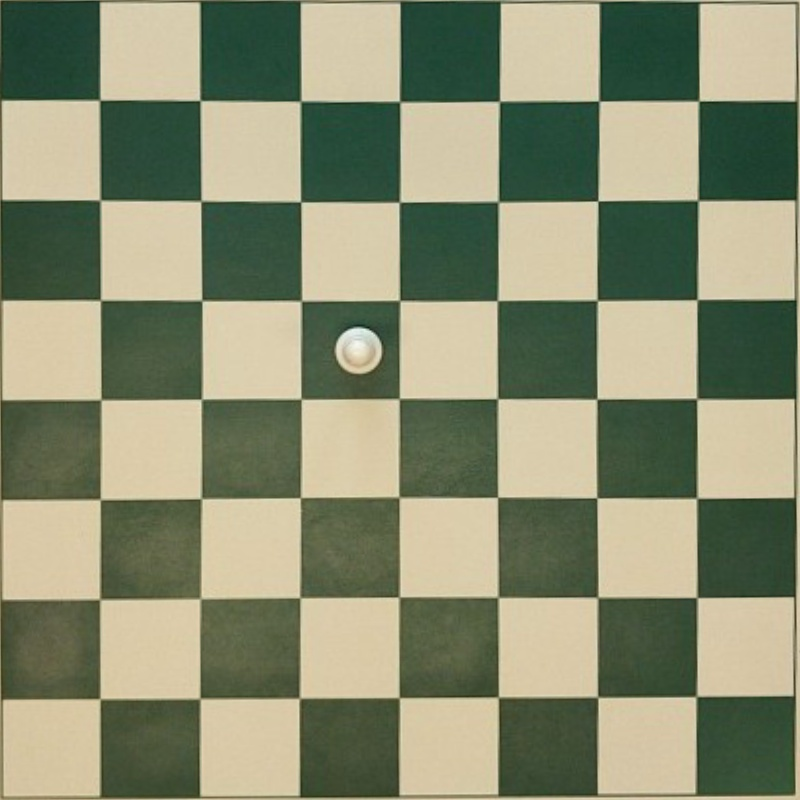white-pawn: (334, 326, 383, 374)
